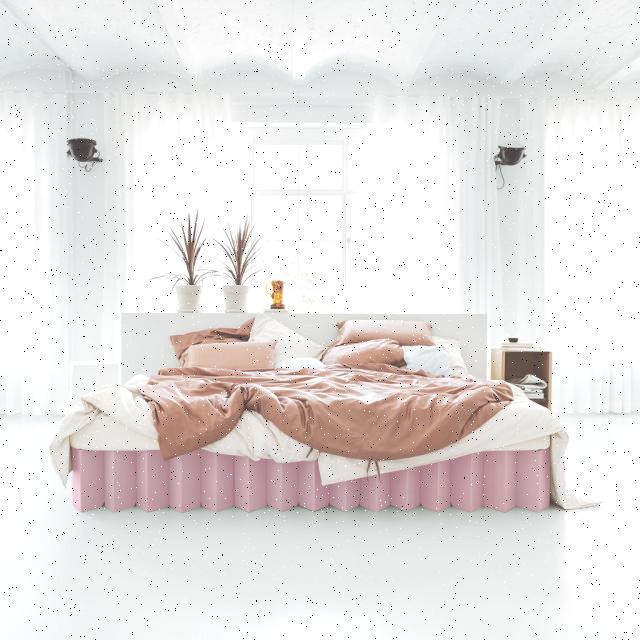bed: (75, 308, 551, 483)
